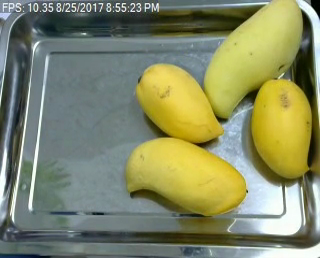Mango: (201, 0, 305, 117), (122, 137, 249, 217), (133, 62, 224, 145), (250, 77, 314, 179)
